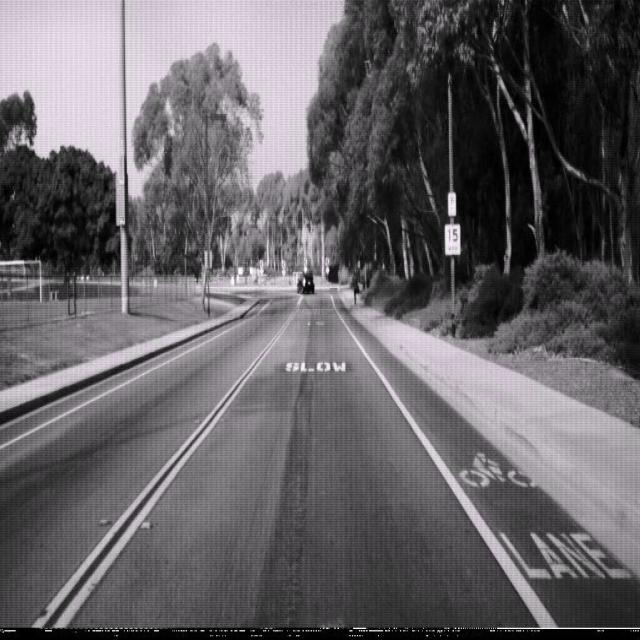speedLimit15: (444, 222, 461, 256)
